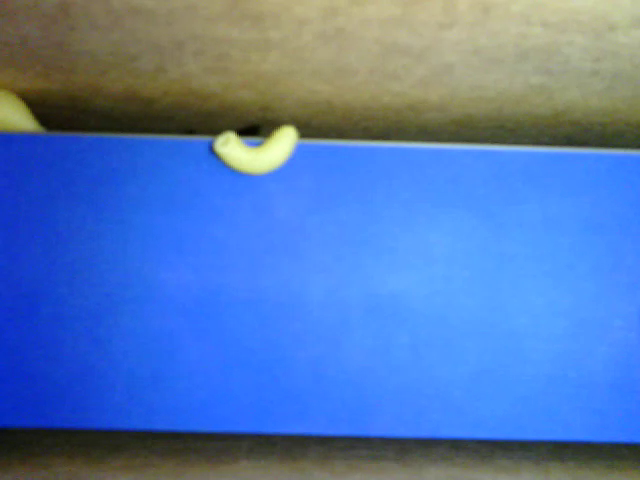elbow: (214, 123, 299, 171)
shell: (1, 90, 46, 132)
